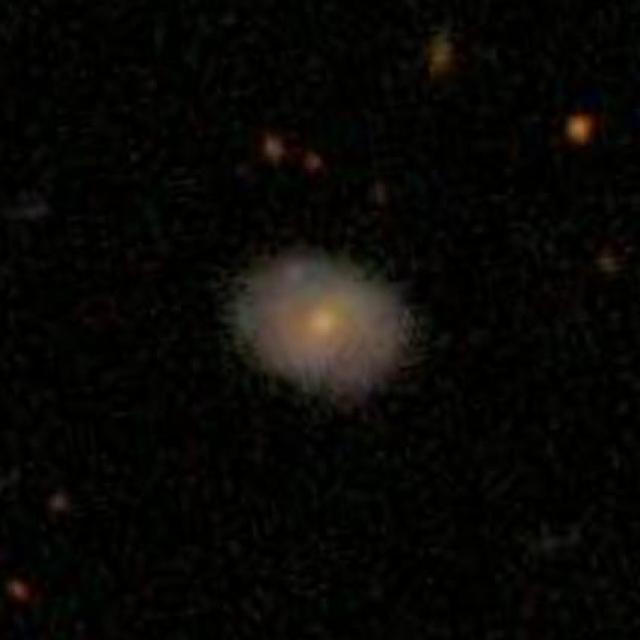galaxy: (224, 241, 437, 420), (425, 25, 460, 84), (565, 107, 597, 152), (260, 128, 289, 170), (5, 573, 35, 608), (303, 146, 332, 182), (49, 493, 66, 515)
